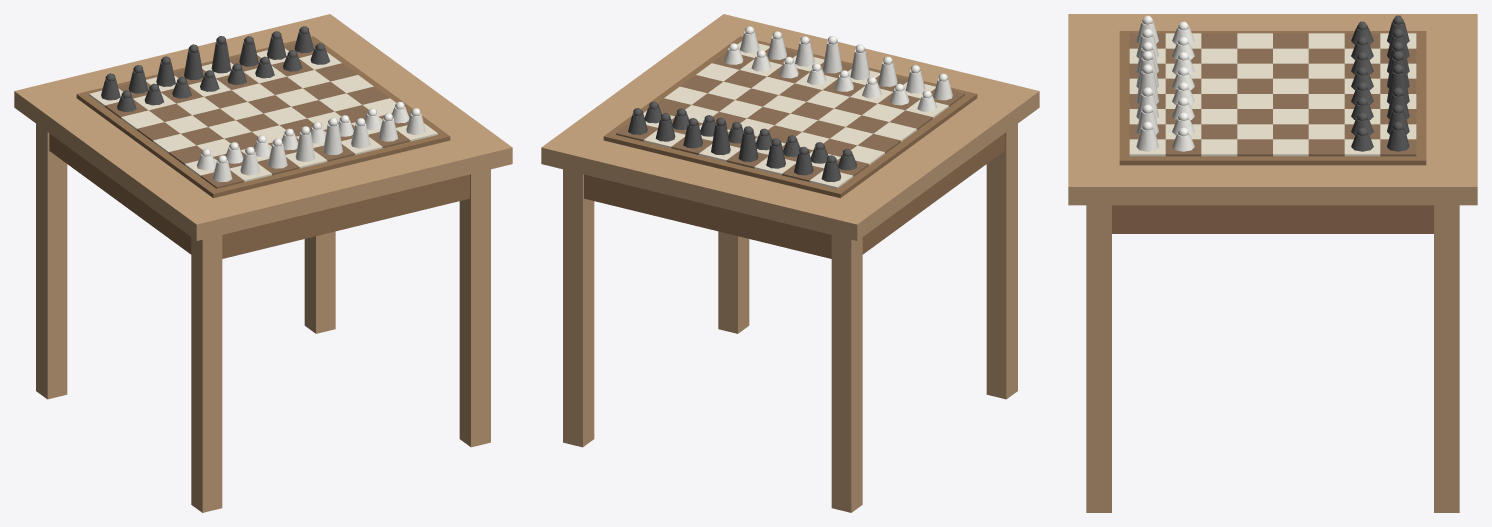
File: chess.glb
3 renders of one model, left to right at view 1: azimuth 30°, elevation 25°; view 2: azimuth 150°, elevation 25°; view 3: azimuth 270°, elevation 25°, orthographic. The views are drawn at different scales.
Visible parts, largest first — view 1: chess; view 2: chess; view 3: chess.
Boxes of the visible parts, x1=… form: chess: x1=14, y1=14, x2=512, y2=512; chess: x1=541, y1=14, x2=1039, y2=512; chess: x1=1068, y1=14, x2=1477, y2=512.
Bounding box in the file's own units: 0.8 × 0.8139 × 0.8.
